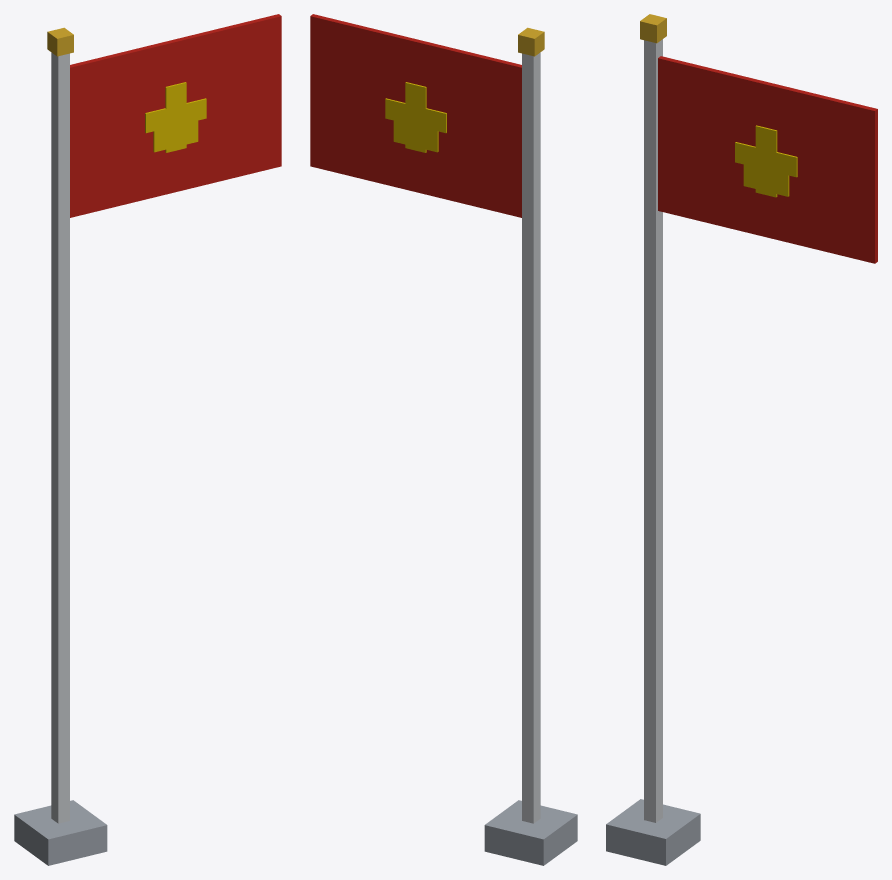
The model's file is flagpole.glb.
The picture shows the model from 3 angles, left to right: view 1: azimuth 30°, elevation 25°; view 2: azimuth 150°, elevation 25°; view 3: azimuth 330°, elevation 25°; orthographic projection.
Visible parts, largest first — view 1: box-prop; view 2: box-prop; view 3: box-prop.
Part boxes in pixels (box(x1,y1,x2,y2)): box-prop: box(14, 14, 281, 865); box-prop: box(310, 14, 577, 865); box-prop: box(606, 14, 877, 865).
Size of the model in its own units: 2.95 by 9.2 by 0.7.
